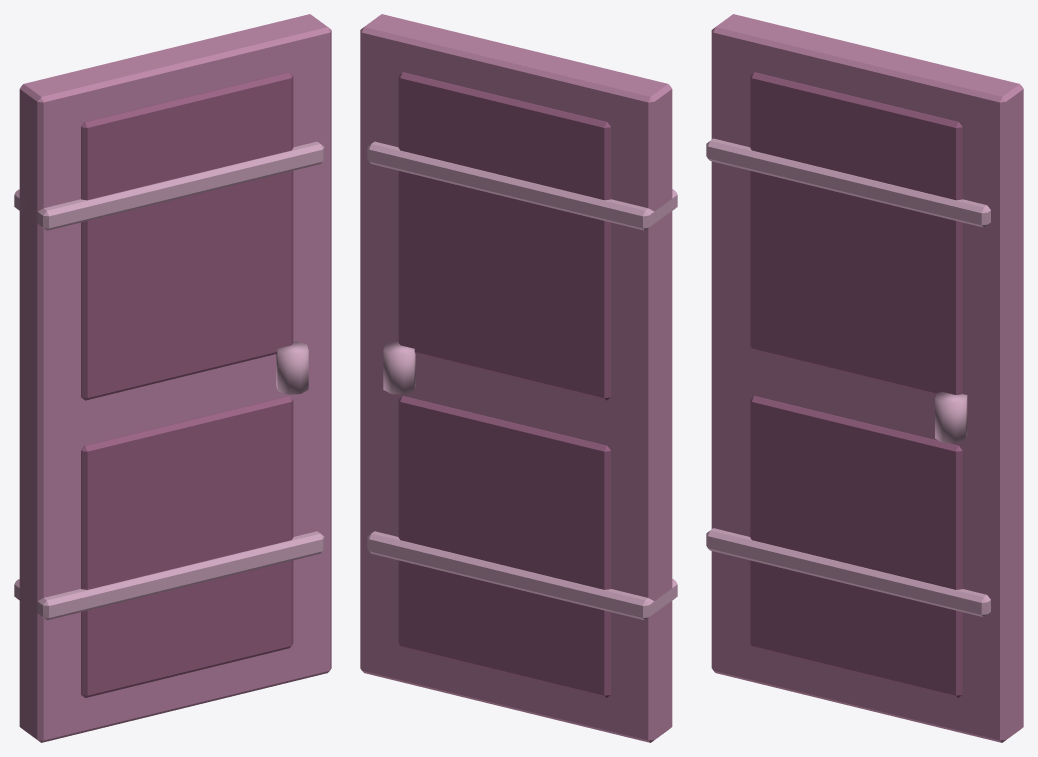
The model's file is pink_dungeon_door_v0.glb.
The picture shows the model from 3 angles, left to right: view 1: azimuth 30°, elevation 25°; view 2: azimuth 150°, elevation 25°; view 3: azimuth 330°, elevation 25°; orthographic projection.
Parts seen in each view (by area): view 1: pink_dungeon_door_v0; view 2: pink_dungeon_door_v0; view 3: pink_dungeon_door_v0.
Part boxes in pixels (x1=…): pink_dungeon_door_v0: x1=14, y1=14, x2=331, y2=742; pink_dungeon_door_v0: x1=360, y1=14, x2=677, y2=742; pink_dungeon_door_v0: x1=706, y1=14, x2=1023, y2=742.
Bounding box in the file's own units: 0.92 × 1.93 × 0.27.
